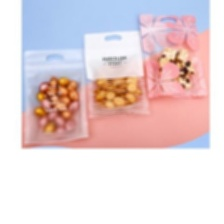snack: (21, 44, 94, 147), (79, 25, 156, 120), (134, 9, 210, 103)
